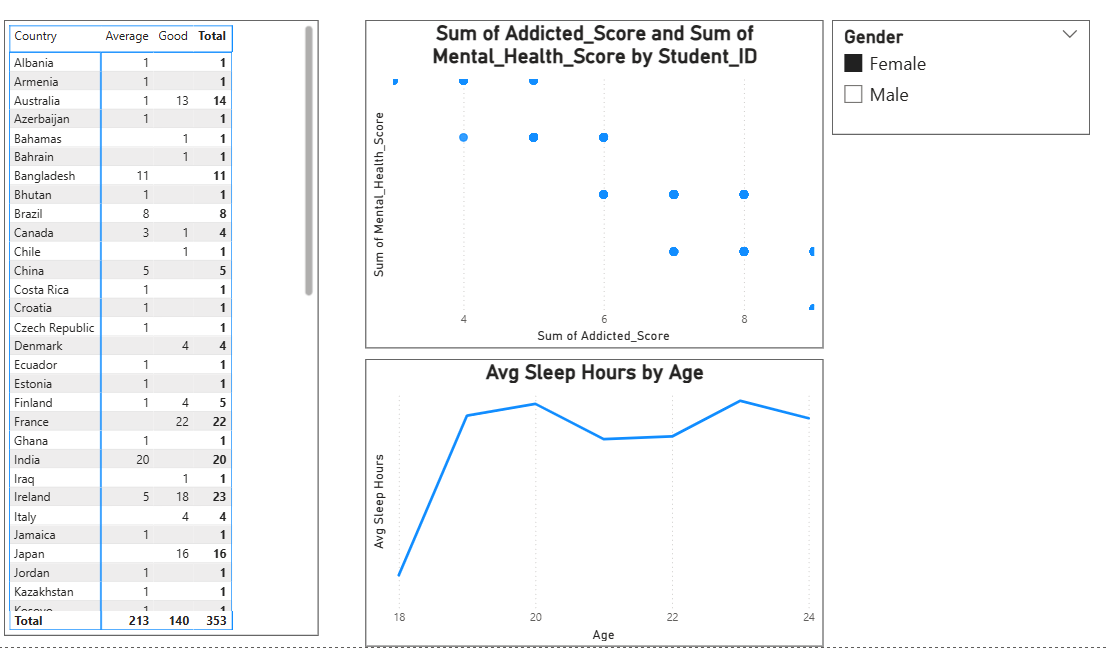

Layout of this report page (visuals, bound fields, positions):
{"tool":"powerbi","page":{"name":"Page 2","canvas":[1280,720],"ordinal":1},"visuals":[{"type":"pivotTable","fields":{"Rows":["Student Details.Country"],"Columns":["Student Details.Health Band"],"Values":["CountNonNull(Student Details.Student_ID)"]},"box":[22.7,22.7,349.6,684.1],"z":0},{"type":"scatterChart","fields":{"X":["Sum(Student Details.Addicted_Score)"],"Y":["Sum(Student Details.Mental_Health_Score)"],"Category":["Student Details.Student_ID"]},"box":[425.2,22.7,508.4,364.7],"z":1000},{"type":"lineChart","fields":{"Y":["Student Details.Avg Sleep Hours"],"Category":["Student Details.Age"]},"box":[425.2,400.6,508.4,319.4],"z":2000},{"type":"slicer","fields":{"Values":["Student Details.Gender"]},"box":[942.5,23.2,286.6,127.5],"z":3000}]}

Visuals, with their boxes in screenshot pixels (x1, y1, x2, y2):
pivotTable - Student Details.Country x Student Details.Health Band: rect(6, 23, 315, 629)
scatterChart - Sum(Student Details.Addicted_Score) x Sum(Student Details.Mental_Health_Score): rect(362, 23, 813, 346)
lineChart - Student Details.Avg Sleep Hours x Student Details.Age: rect(362, 358, 813, 641)
slicer - Student Details.Gender: rect(820, 23, 1074, 136)
